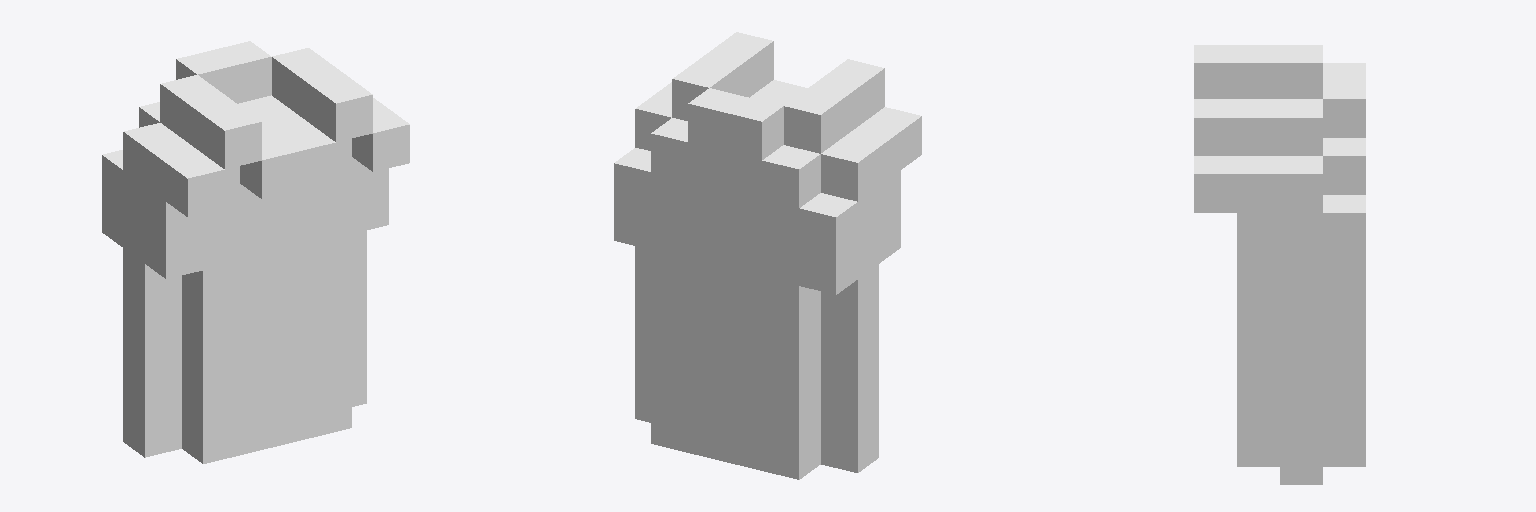
The model's file is Torso.obj.
3 renders of one model, left to right at view 1: azimuth 30°, elevation 25°; view 2: azimuth 150°, elevation 25°; view 3: azimuth 270°, elevation 25°, orthographic.
Parts seen in each view (by area): view 1: mr-p-Sheet; view 2: mr-p-Sheet; view 3: mr-p-Sheet.
Boxes of the visible parts, box(x1,y1,x2,y2) form: mr-p-Sheet: box(102, 41, 409, 463); mr-p-Sheet: box(614, 32, 921, 479); mr-p-Sheet: box(1194, 45, 1365, 484).
Size of the model in its own units: 0.6 by 0.9 by 0.4.